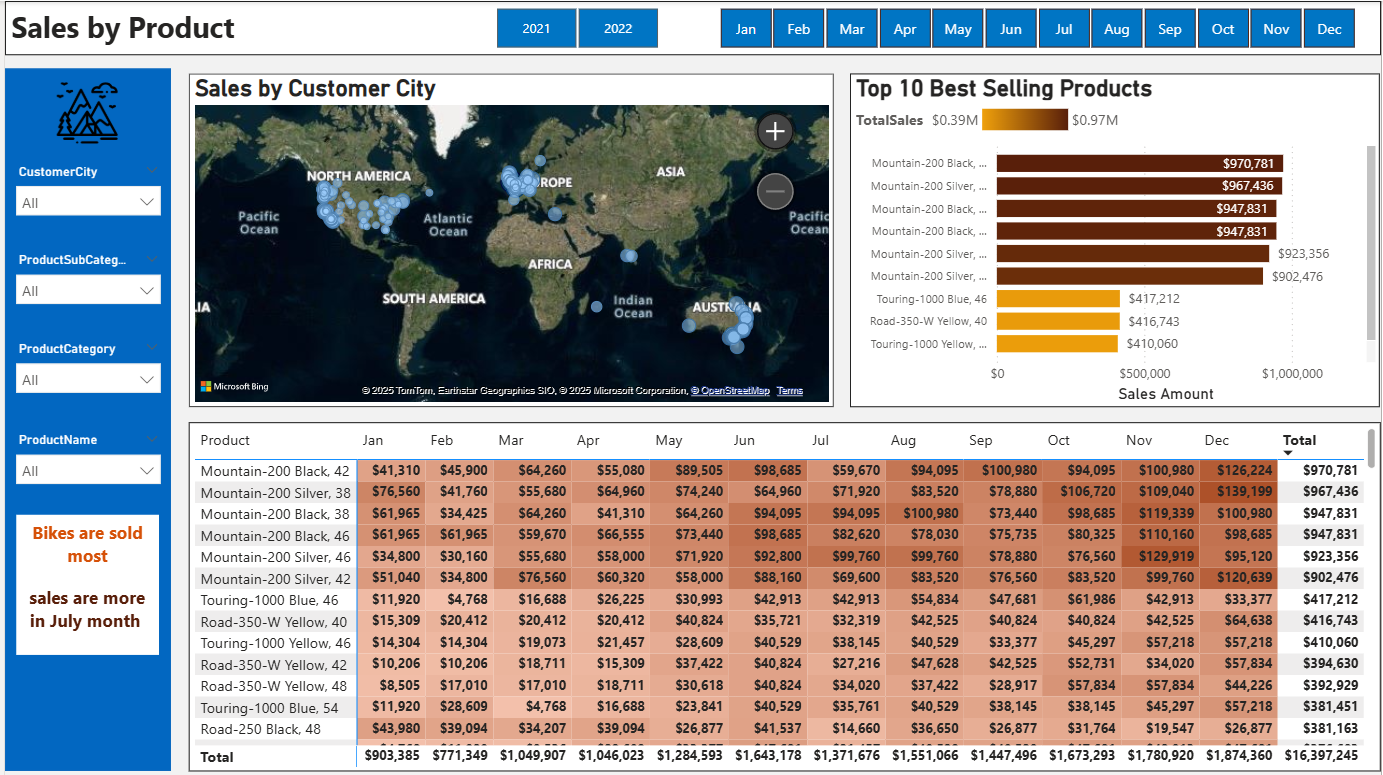

What the dashboard file says about the page in this screenshot:
{"tool":"powerbi","page":{"name":"Sales by Product","canvas":[1280,720],"ordinal":2},"visuals":[{"type":"textbox","box":[0,0,1280.2,50],"z":0},{"type":"pivotTable","fields":{"Columns":["DimDate.MonthShort"],"Values":["Key Measures.TotalSales"],"Rows":["DimProduct.ProductName"]},"box":[171,392.2,1109,324.7],"z":7000},{"type":"barChart","title":"Top 10 Best Selling Products","fields":{"Y":["Key Measures.TotalSales"],"Category":["DimProduct.ProductName"]},"box":[786,67.4,493,310.5],"z":8000},{"type":"map","title":"Sales by Customer City","fields":{"Category":["DimCustomer.CustomerCity"],"Size":["Key Measures.TotalSales"]},"box":[171,67.5,600,310],"z":9000},{"type":"shape","box":[0,62.8,154.7,653.5],"z":9001},{"type":"slicer","fields":{"Values":["DimProduct.ProductName"]},"box":[0,396.5,154.7,64],"z":9002},{"type":"slicer","fields":{"Values":["DimProduct.ProductCategory"]},"box":[0,311.6,154.7,64],"z":9003},{"type":"slicer","fields":{"Values":["DimCustomer.CustomerCity"]},"box":[0,146.5,154.7,64],"z":9004},{"type":"slicer","fields":{"Values":["DimProduct.ProductSubCategory"]},"box":[0,229.1,154.7,64],"z":9005},{"type":"textbox","box":[10.5,477.9,132.6,130.2],"z":9006},{"type":"image","box":[10.5,70.9,132.6,66.3],"z":9007},{"type":"slicer","fields":{"Values":["DimDate.Year"]},"box":[431,0,200,50],"z":9008},{"type":"slicer","fields":{"Values":["DimDate.MonthShort"]},"box":[640,0,640,50],"z":9009}]}

Visuals, with their boxes in screenshot pixels (x1, y1, x2, y2), scaled from the page's 1280x720 canvas onto the 1383x775 screenshot:
textbox: box(0, 0, 1382, 54)
pivotTable - DimDate.MonthShort x Key Measures.TotalSales: box(185, 422, 1382, 772)
"Top 10 Best Selling Products" barChart: box(849, 73, 1382, 407)
"Sales by Customer City" map: box(185, 73, 833, 406)
shape: box(0, 68, 167, 771)
slicer - DimProduct.ProductName: box(0, 427, 167, 496)
slicer - DimProduct.ProductCategory: box(0, 335, 167, 404)
slicer - DimCustomer.CustomerCity: box(0, 158, 167, 227)
slicer - DimProduct.ProductSubCategory: box(0, 247, 167, 315)
textbox: box(11, 514, 155, 655)
image: box(11, 76, 155, 148)
slicer - DimDate.Year: box(466, 0, 682, 54)
slicer - DimDate.MonthShort: box(692, 0, 1382, 54)
